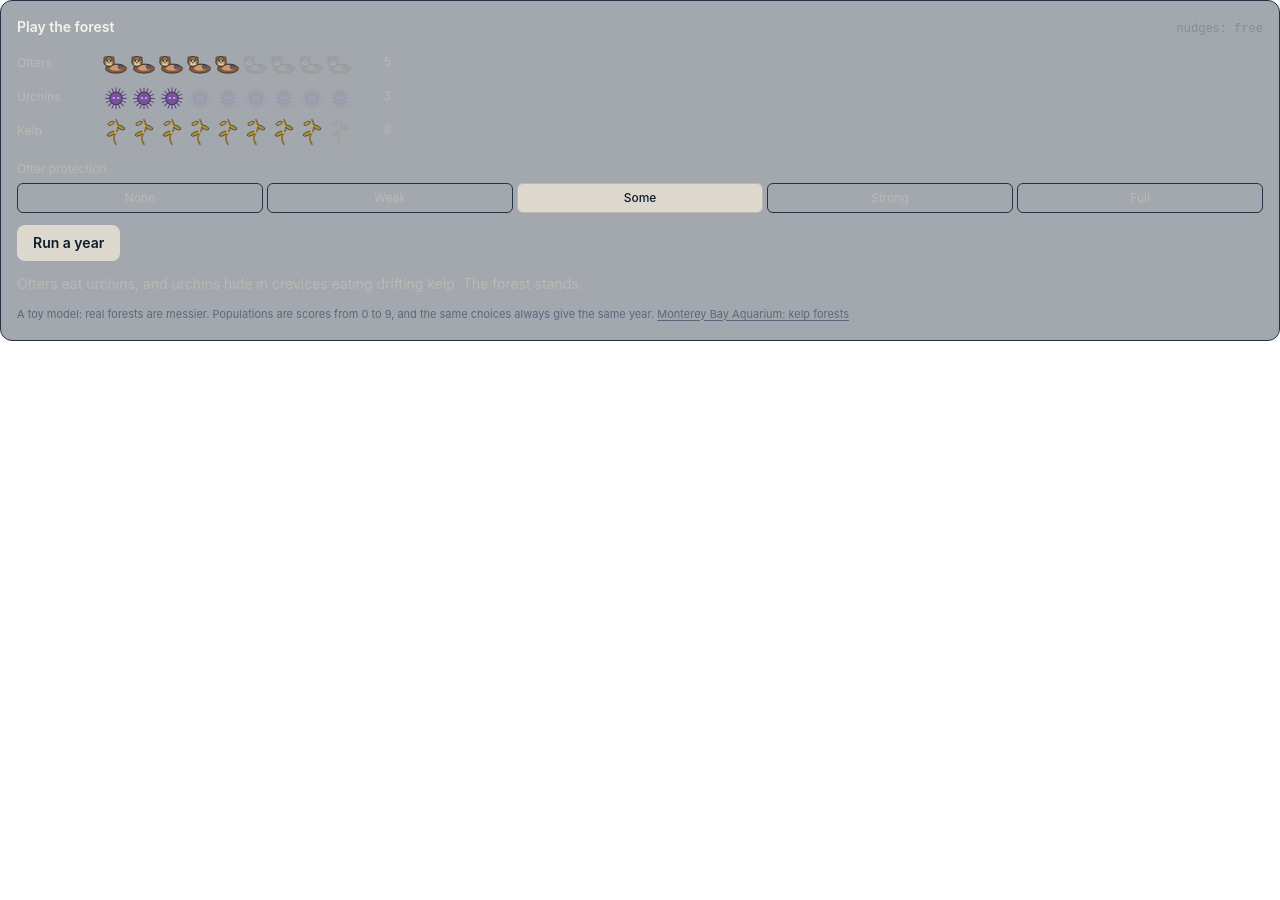
KelpPlay › names the barren when the forest collapses
The width and height of the screenshot is (1280, 900).
Click the radio button labelled "Weak": coordinates (390, 198) x1=267 y1=183 x2=513 y2=213
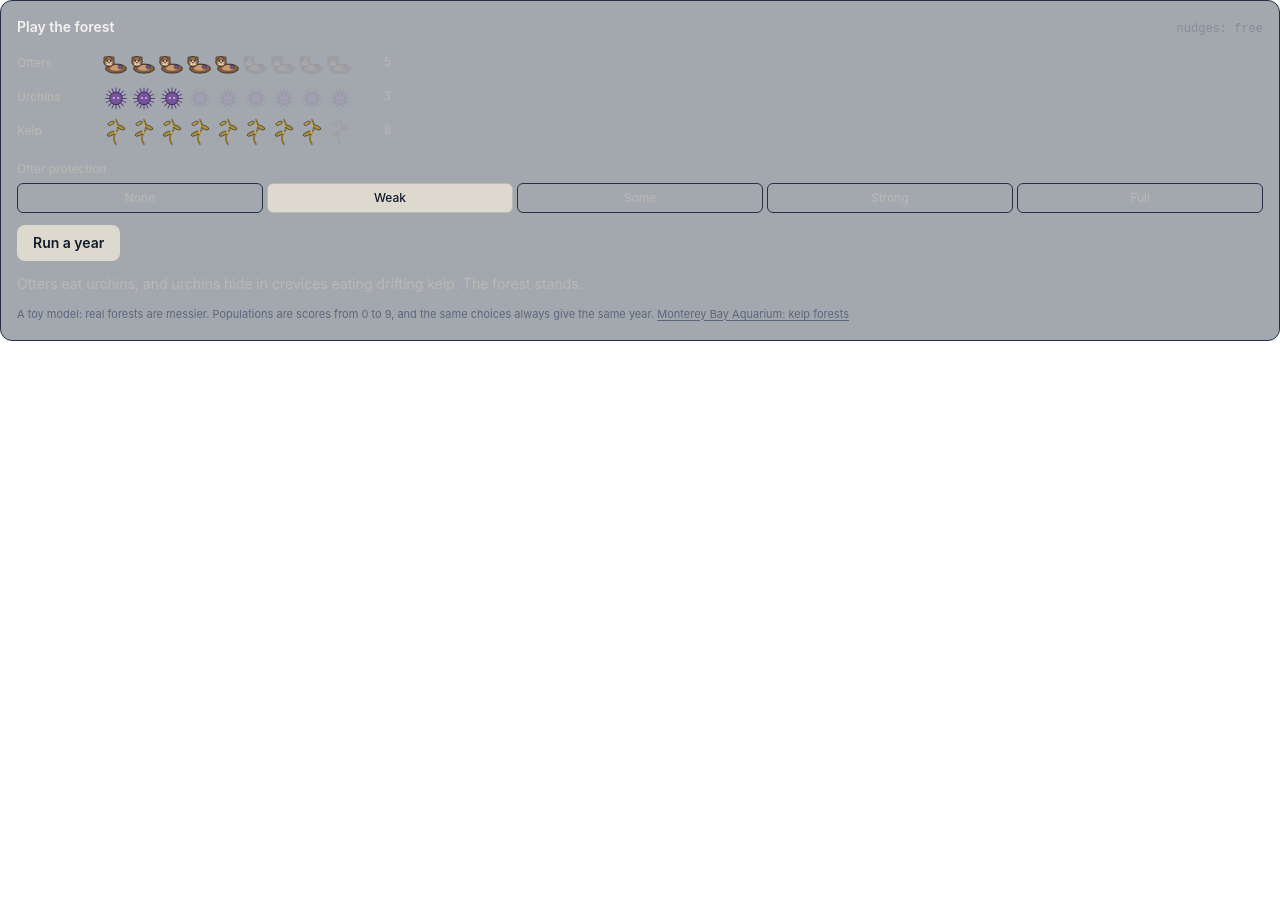
Click the button "Run a year": coordinates (69, 243) x1=17 y1=225 x2=120 y2=261
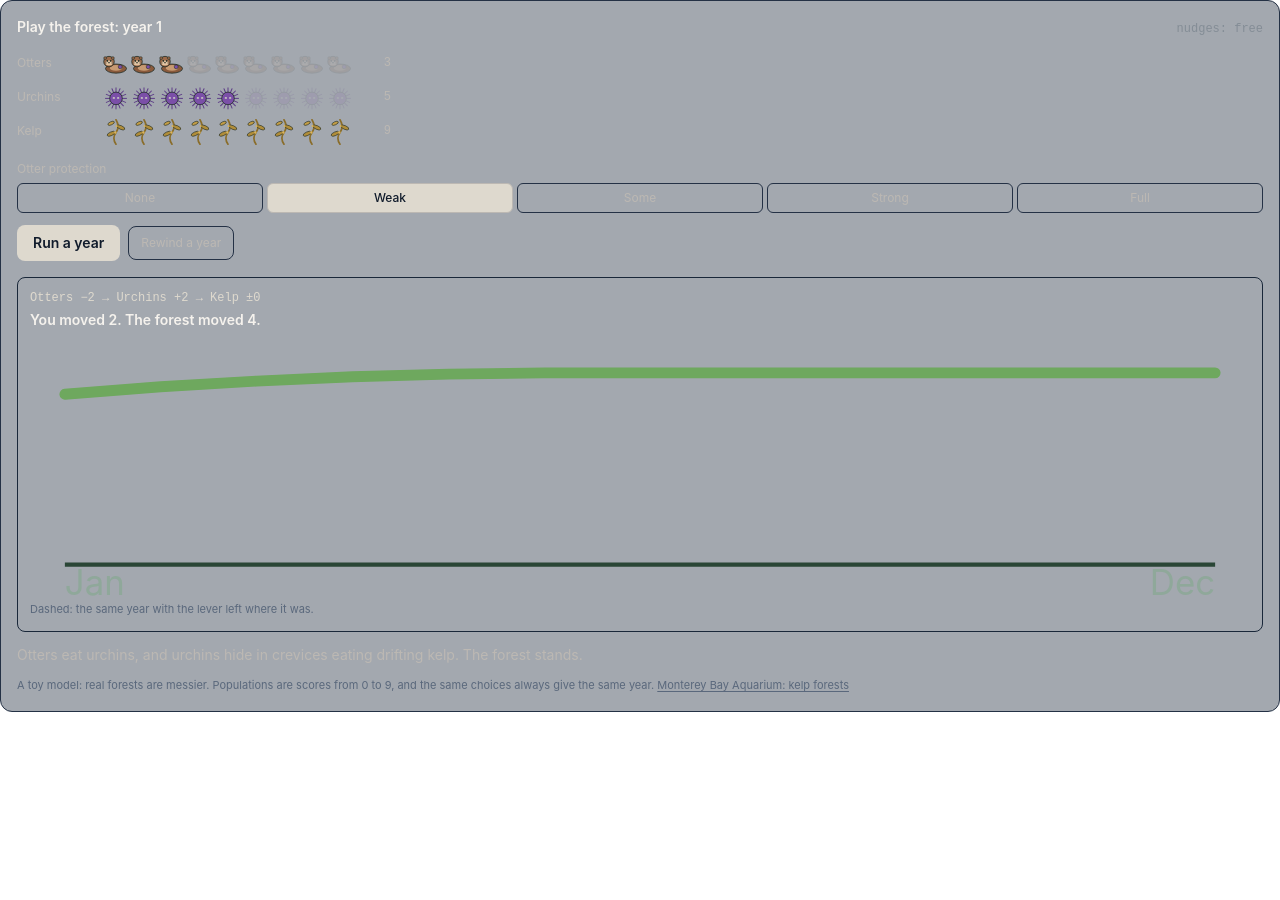
Click the button "Run a year": coordinates (69, 243) x1=17 y1=225 x2=120 y2=261
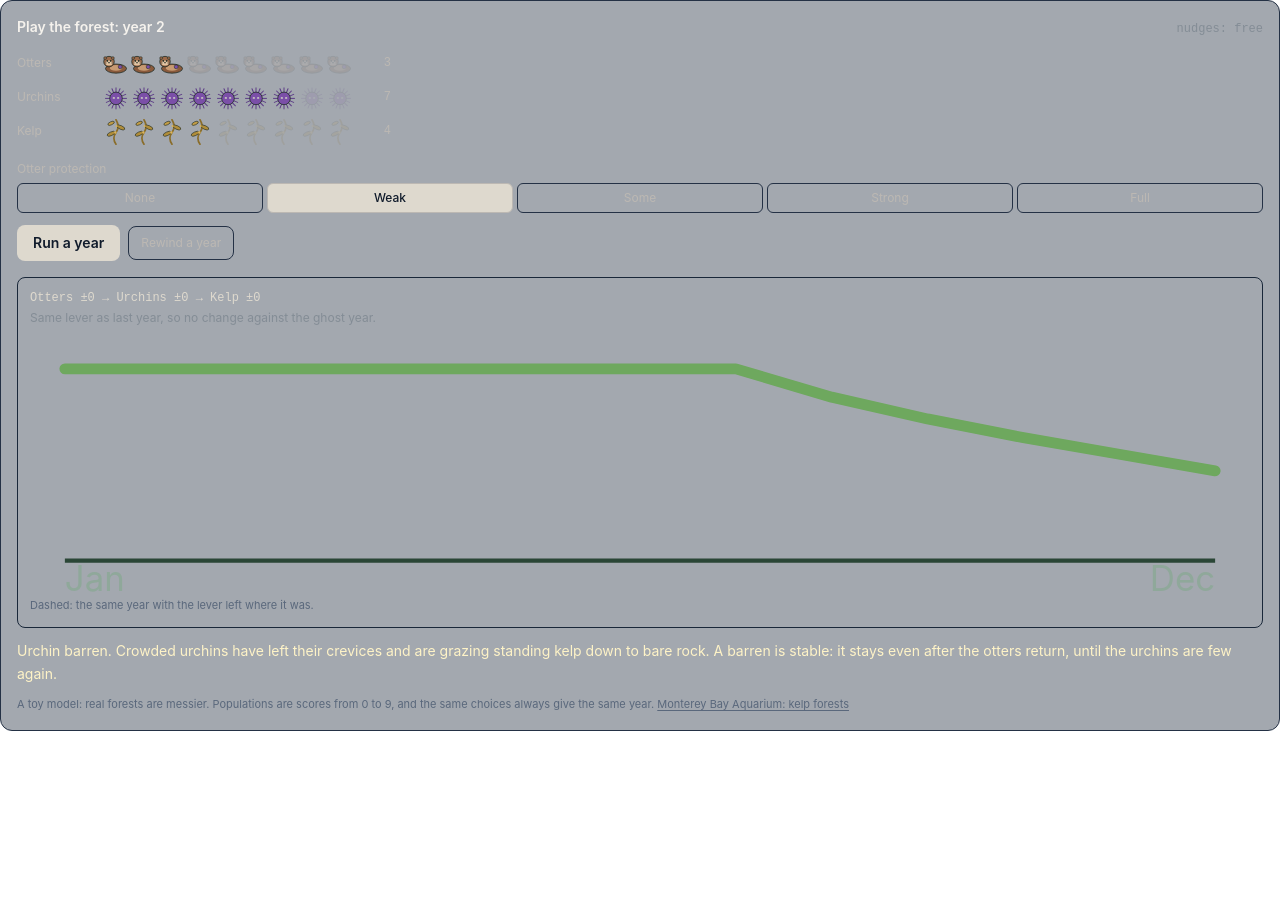
Result: the text "Urchin barren." is shown at x1=17 y1=642 x2=1232 y2=682
